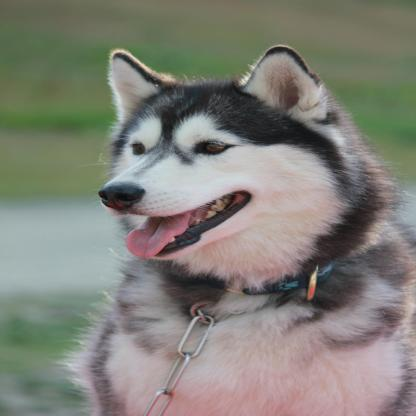husky: (78, 40, 416, 416)
